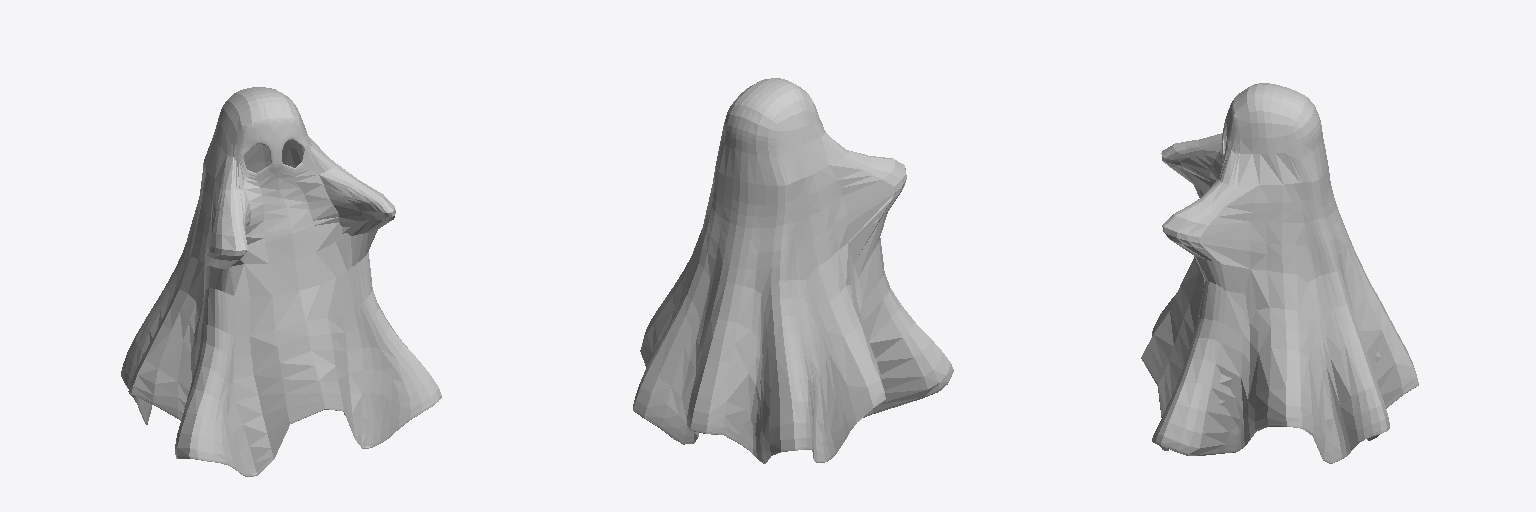
3 renders of one model, left to right at view 1: azimuth 30°, elevation 25°; view 2: azimuth 150°, elevation 25°; view 3: azimuth 270°, elevation 25°, orthographic.
Parts seen in each view (by area): view 1: youlinguu2:Group3 walk1; view 2: youlinguu2:Group3 walk1; view 3: youlinguu2:Group3 walk1.
Part boxes in pixels (left/top/right/bottom): youlinguu2:Group3 walk1: left=121, top=87, right=441, bottom=476; youlinguu2:Group3 walk1: left=633, top=78, right=953, bottom=463; youlinguu2:Group3 walk1: left=1141, top=83, right=1418, bottom=463.
Size of the model in its own units: 32.22 by 39.77 by 29.92.